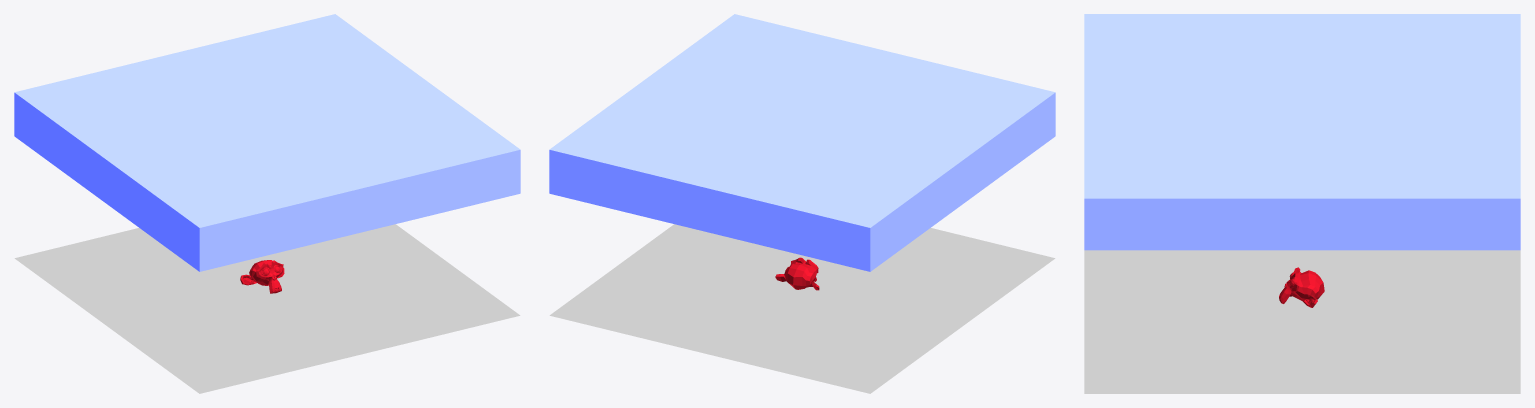
3 renders of one model, left to right at view 1: azimuth 30°, elevation 25°; view 2: azimuth 150°, elevation 25°; view 3: azimuth 270°, elevation 25°, orthographic. The views are drawn at different scales.
Visible parts, largest first — view 1: Plane.001, Plane, Suzanne; view 2: Plane.001, Plane, Suzanne; view 3: Plane.001, Plane, Suzanne.
Part boxes in pixels (x1=…): Plane.001: x1=14, y1=14, x2=520, y2=271; Plane: x1=14, y1=224, x2=520, y2=393; Suzanne: x1=240, y1=260, x2=284, y2=293; Plane.001: x1=549, y1=14, x2=1055, y2=271; Plane: x1=549, y1=224, x2=1055, y2=393; Suzanne: x1=775, y1=257, x2=819, y2=290; Plane.001: x1=1084, y1=14, x2=1520, y2=250; Plane: x1=1084, y1=250, x2=1520, y2=393; Suzanne: x1=1279, y1=267, x2=1324, y2=307.
Size of the model in its own units: 10 by 4.94 by 10.
